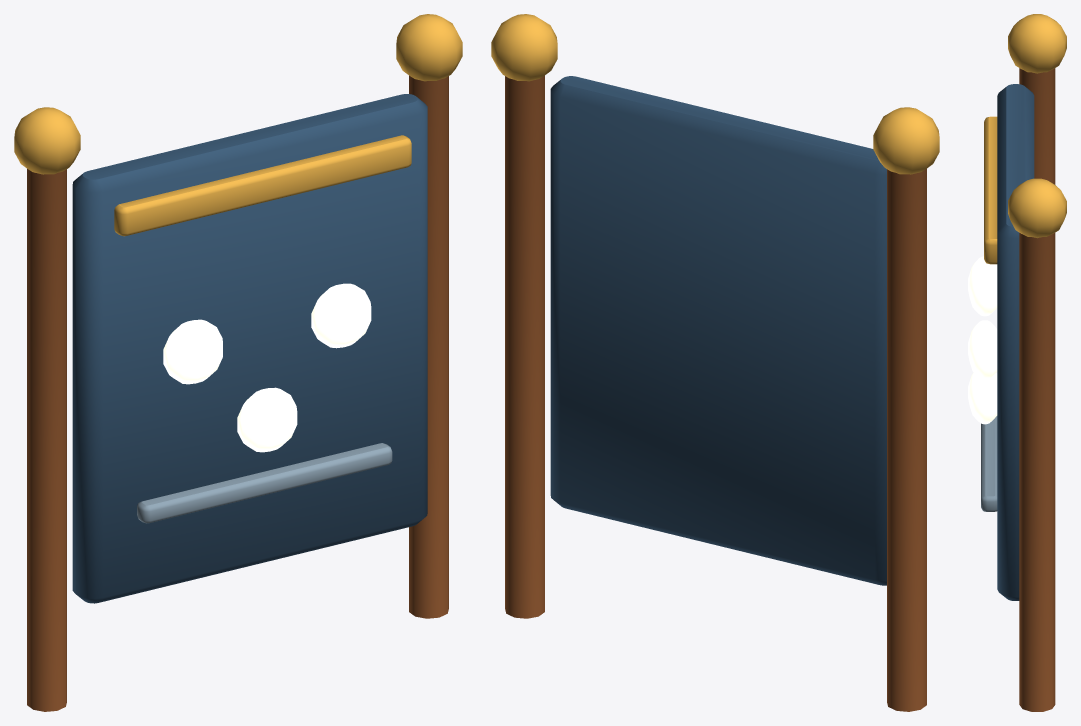
The model's file is season.glb.
The picture shows the model from 3 angles, left to right: view 1: azimuth 30°, elevation 25°; view 2: azimuth 150°, elevation 25°; view 3: azimuth 270°, elevation 25°; orthographic projection. The views are drawn at different scales.
Parts seen in each view (by area): view 1: season; view 2: season; view 3: season.
Part boxes in pixels (x1=…): season: x1=14, y1=14, x2=462, y2=711; season: x1=491, y1=14, x2=939, y2=711; season: x1=968, y1=14, x2=1066, y2=711.
Bounding box in the file's own units: 1.33 × 1.72 × 0.294.
